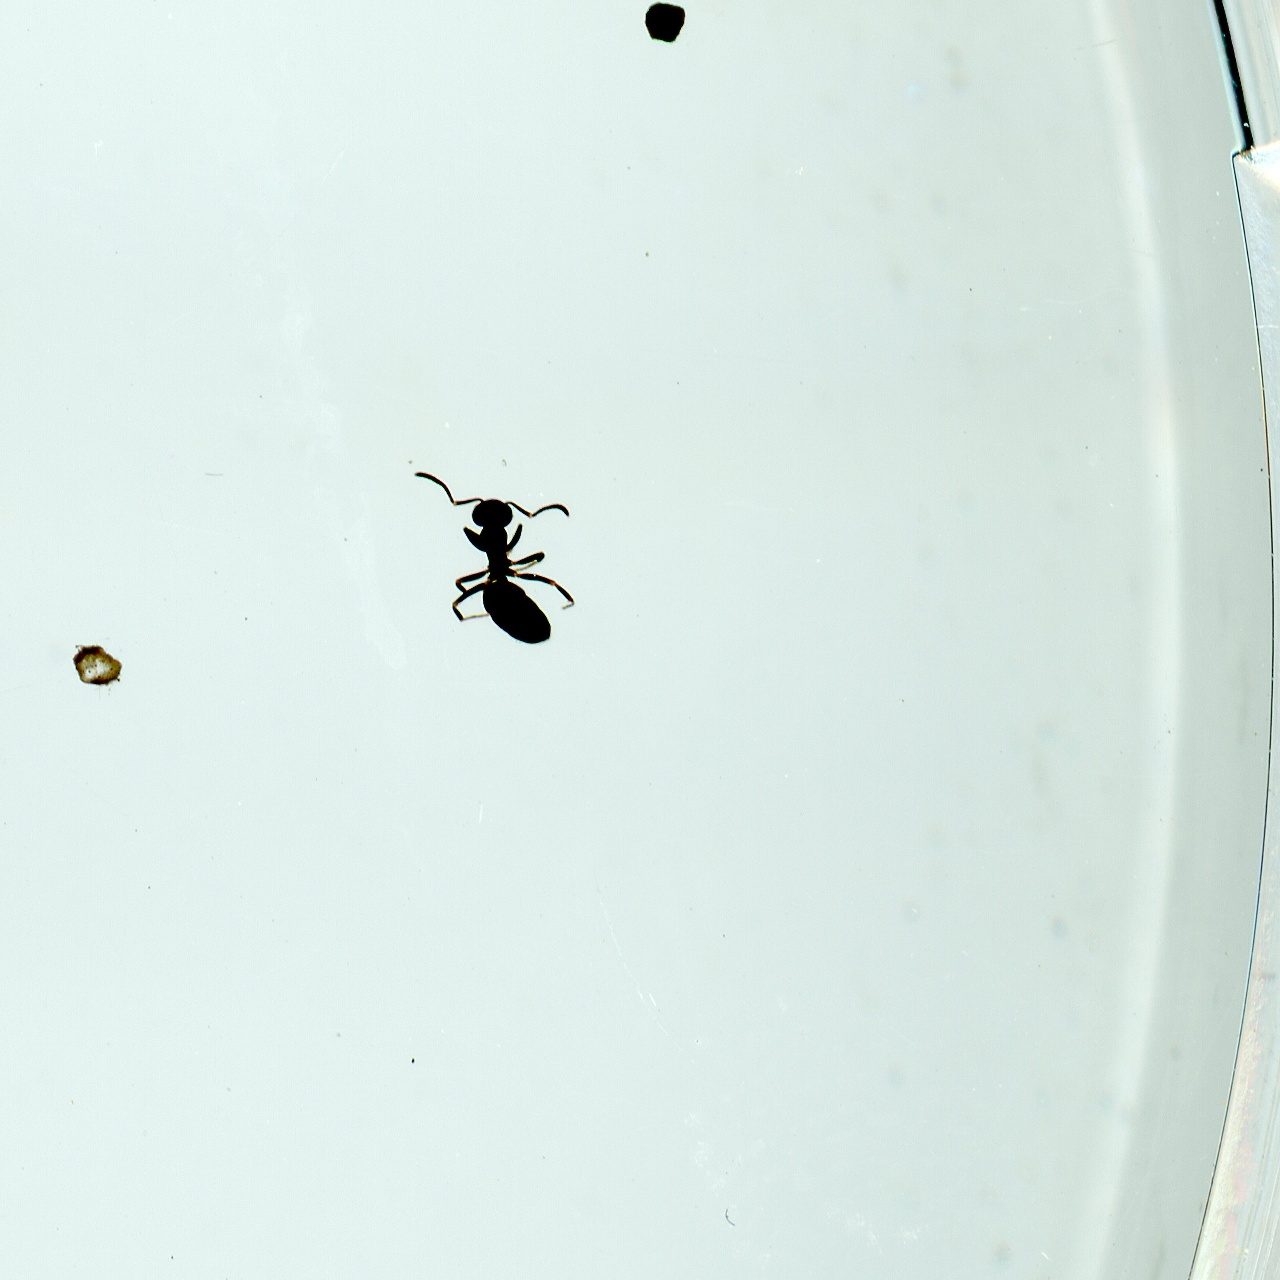arthropod: (362, 396, 595, 672)
